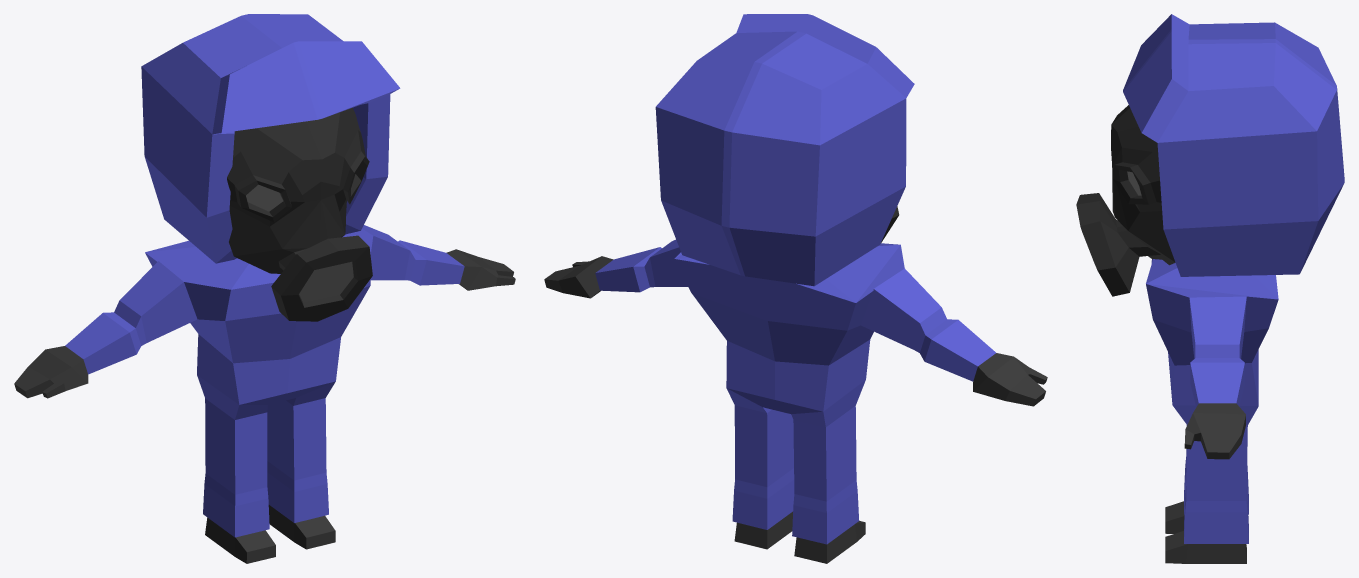
Rendered from BlueEnemy.fbx.
3 views of the same model, side by side, from view 1: azimuth 30°, elevation 25°; view 2: azimuth 150°, elevation 25°; view 3: azimuth 270°, elevation 25° (orthographic).
Visible parts, largest first — view 1: Cube.002; view 2: Cube.002; view 3: Cube.002.
Boxes of the visible parts, x1,y1,x2,y2 form: Cube.002: [14, 14, 515, 563]; Cube.002: [544, 14, 1047, 563]; Cube.002: [1076, 14, 1344, 563].
Bounding box in the file's own units: 800 × 792 × 374.
